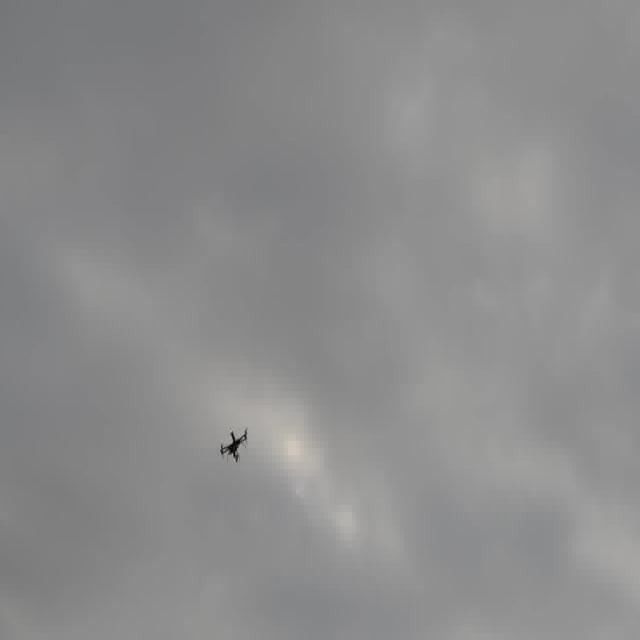drone: (218, 424, 248, 463)
